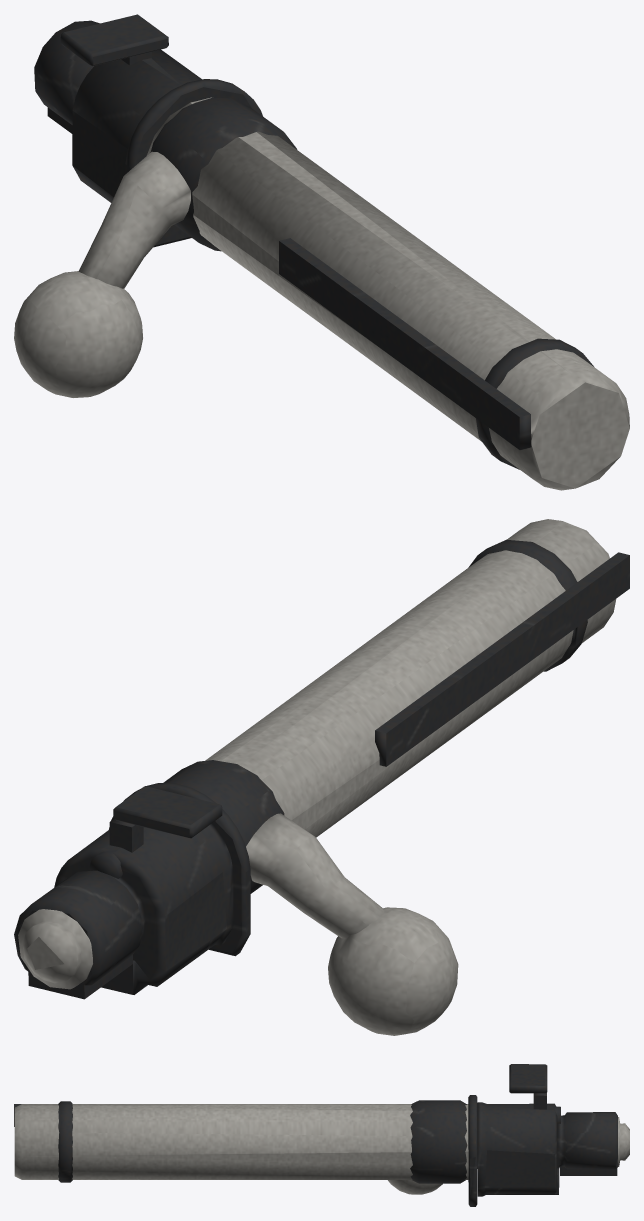
Rendered from SM_Kar98k_Bolt_LOD2.fbx.
3 renders of one model, top to bottom at view 1: azimuth 30°, elevation 25°; view 2: azimuth 150°, elevation 25°; view 3: azimuth 270°, elevation 25°, orthographic. The views are drawn at different scales.
Visible parts, largest first — view 1: SM_Kar98k_Bolt_LOD2; view 2: SM_Kar98k_Bolt_LOD2; view 3: SM_Kar98k_Bolt_LOD2.
Part boxes in pixels (x1=…): SM_Kar98k_Bolt_LOD2: x1=14, y1=14, x2=629, y2=490; SM_Kar98k_Bolt_LOD2: x1=14, y1=519, x2=629, y2=1035; SM_Kar98k_Bolt_LOD2: x1=14, y1=1064, x2=629, y2=1206.
Bounding box in the file's own units: 6.16 × 18.99 × 5.24.
